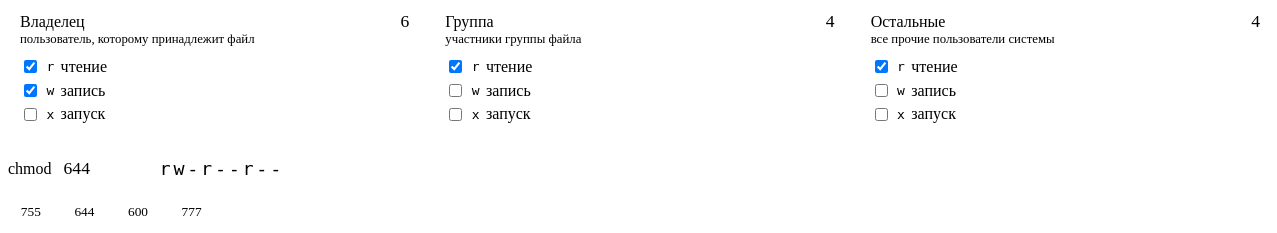
Scenario: checkbox toggle updates octal number and letters
Expected: the text "rw-r--r--" is shown, [160,158,284,179]
Click the checkbox named "Владелец: запуск": (30, 114) [24,108,37,121]
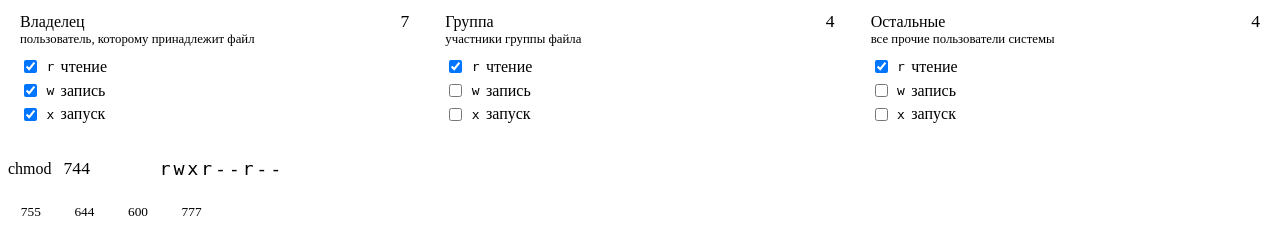
Result: the field showing "744" is shown at [56,154,144,183]
Result: the text "rwxr--r--" is shown at [160,158,284,179]
